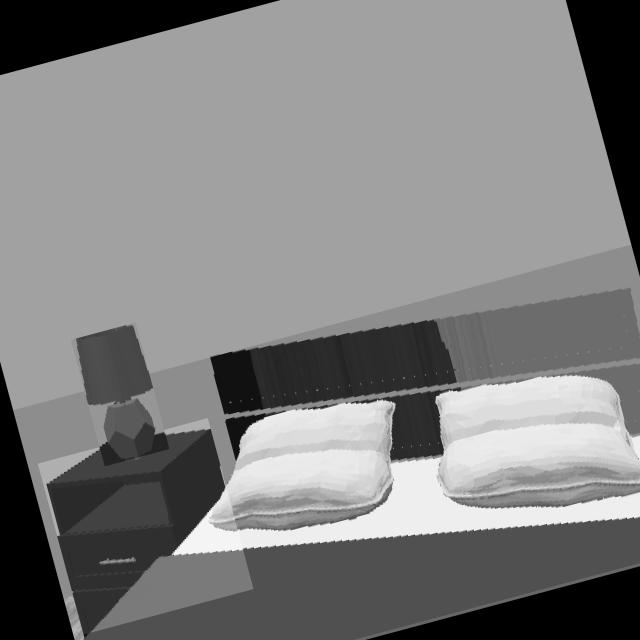bed: (95, 289, 640, 640)
lamp: (76, 328, 155, 459)
nighttable: (47, 431, 225, 633)
